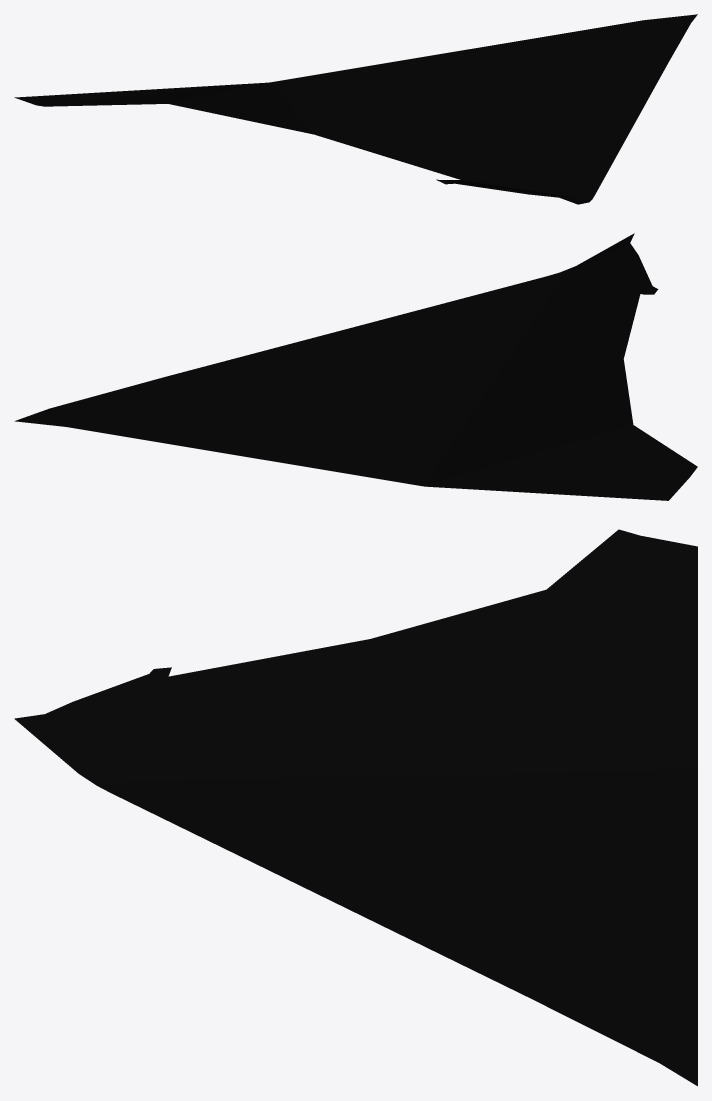
3 views of the same model, one above another, from view 1: azimuth 30°, elevation 25°; view 2: azimuth 150°, elevation 25°; view 3: azimuth 270°, elevation 25° (orthographic). The views are drawn at different scales.
Bounding box in the file's own units: 1.52 × 0.2056 × 1.02.
Materials: 1 (1 with a texture image).
